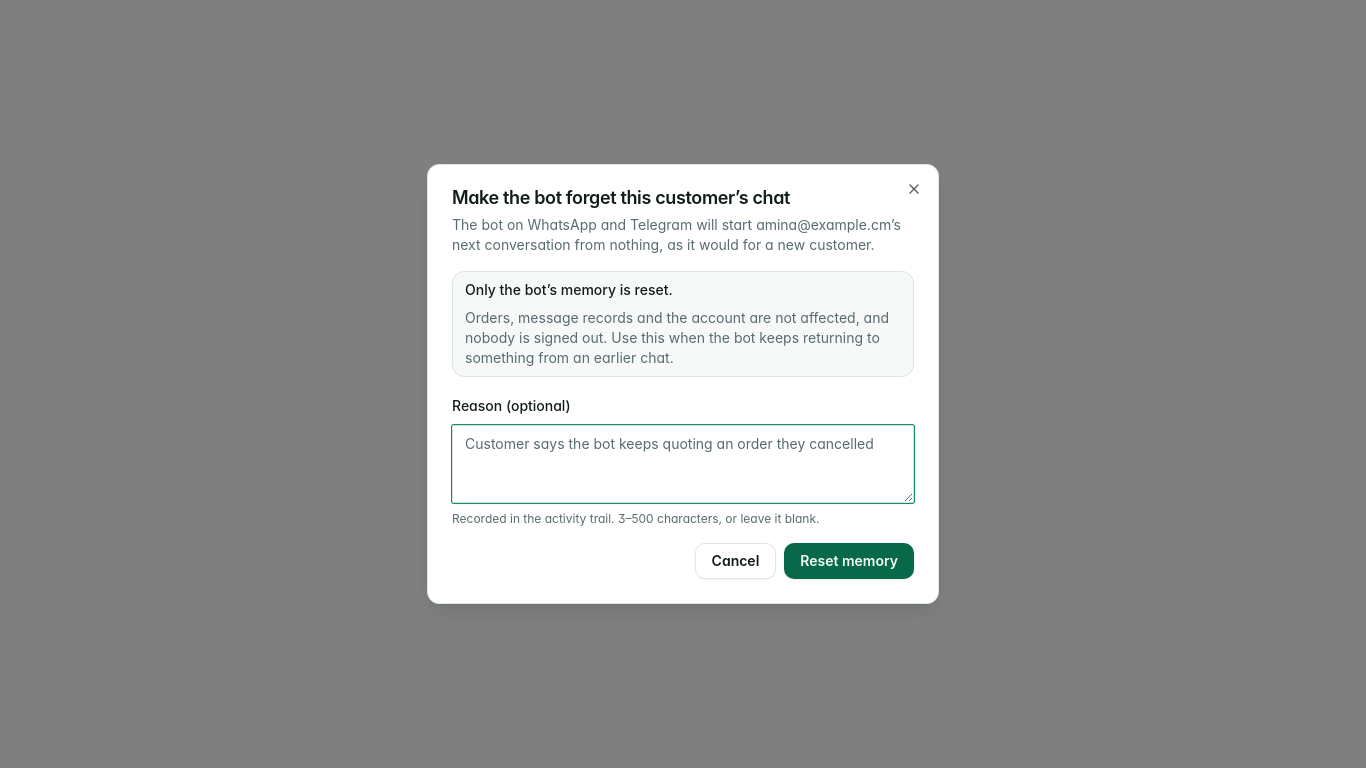
Test: the outcome › says an unreachable platform may not have reset, and that pressing again is safe
What coordinates should you click on to do the following:
click the button "Reset memory"
I would click on:
 (849, 561)
Its box is [784,543,914,579].
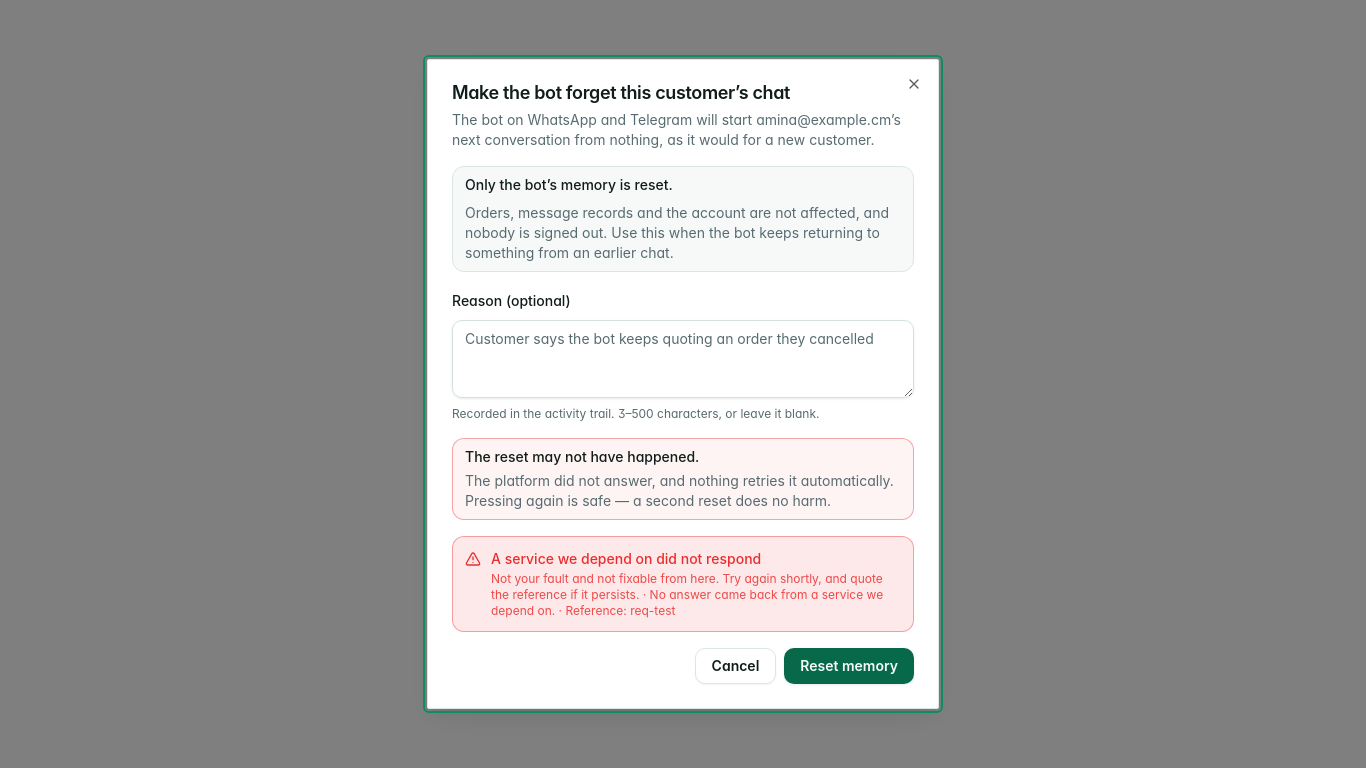
Expected: the button "Reset memory" is enabled, [784,648,914,684]
Expected: the text "The reset may not have happened." is shown, [465,448,699,465]
Expected: the text "pressing again is safe" is shown, [465,472,894,509]
